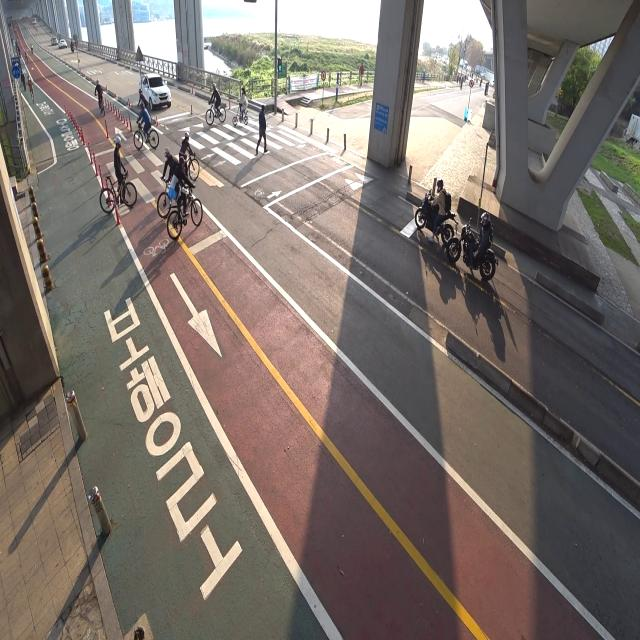Car: (135, 67, 174, 112), (48, 32, 58, 51), (59, 34, 67, 50)
Motorcycle: (445, 208, 497, 282), (414, 176, 456, 248), (67, 36, 76, 58)
